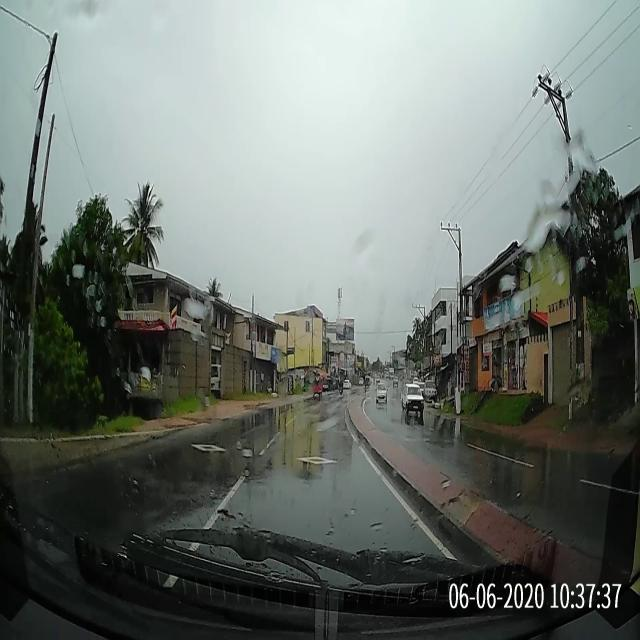Romb: (295, 456, 339, 465), (190, 444, 227, 452)
